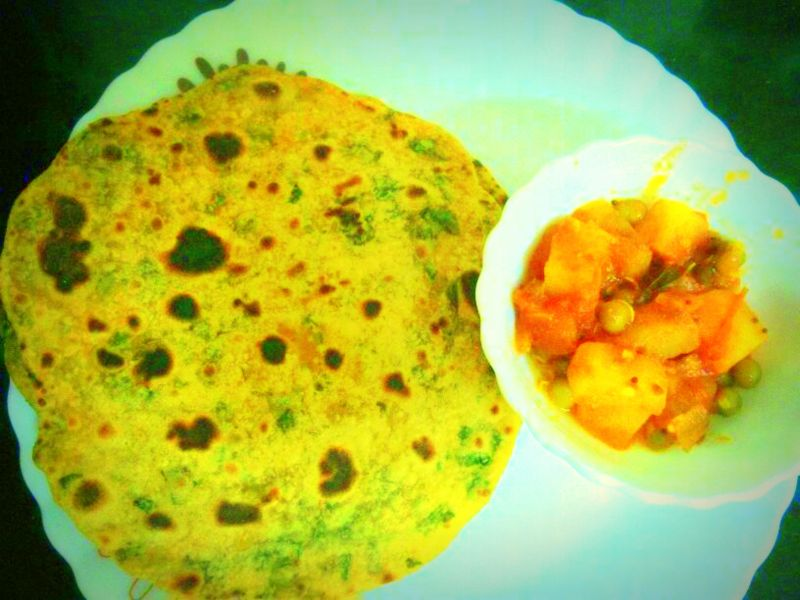aloo_paratha: (2, 64, 497, 600)
